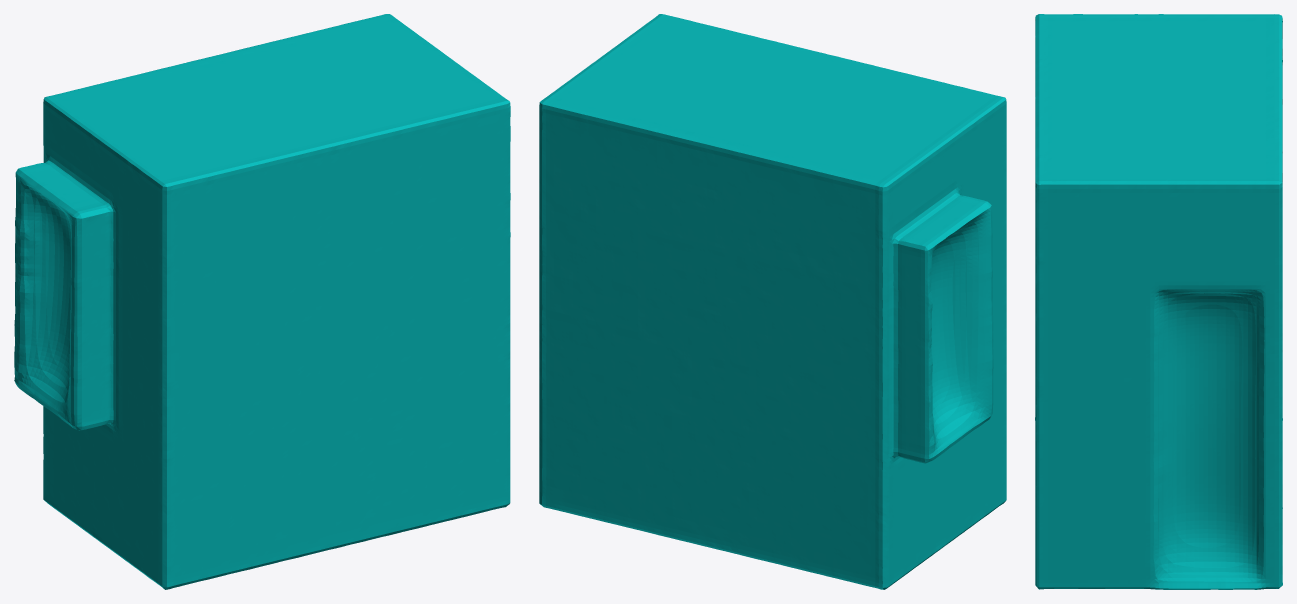
Rendered from 3dfront2.glb.
3 views of the same model, side by side, from view 1: azimuth 30°, elevation 25°; view 2: azimuth 150°, elevation 25°; view 3: azimuth 270°, elevation 25° (orthographic).
Bounding box in the file's own units: 2.82 × 2.82 × 1.55.
